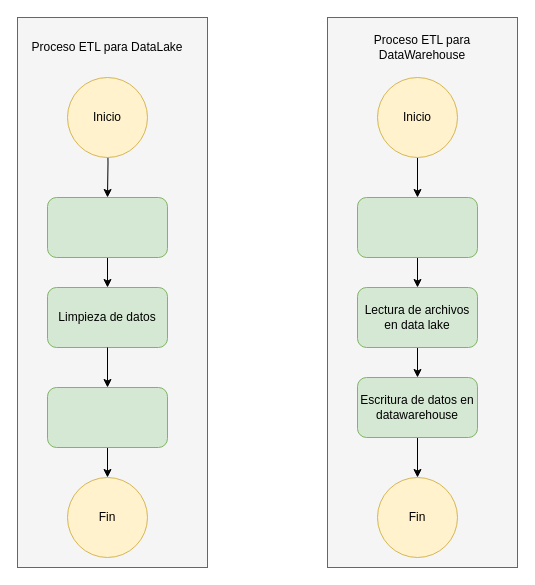
This 535x585 diagram has some shape labels left out. Here are the shapes that lost their labels. From the top down, the centre of each, then its label:
pixel 107 227: Extraccion de datos de la base de datos transaccional
pixel 417 227: Definicion de esquema para datawrehouse
pixel 107 417: Escritura en datalake
